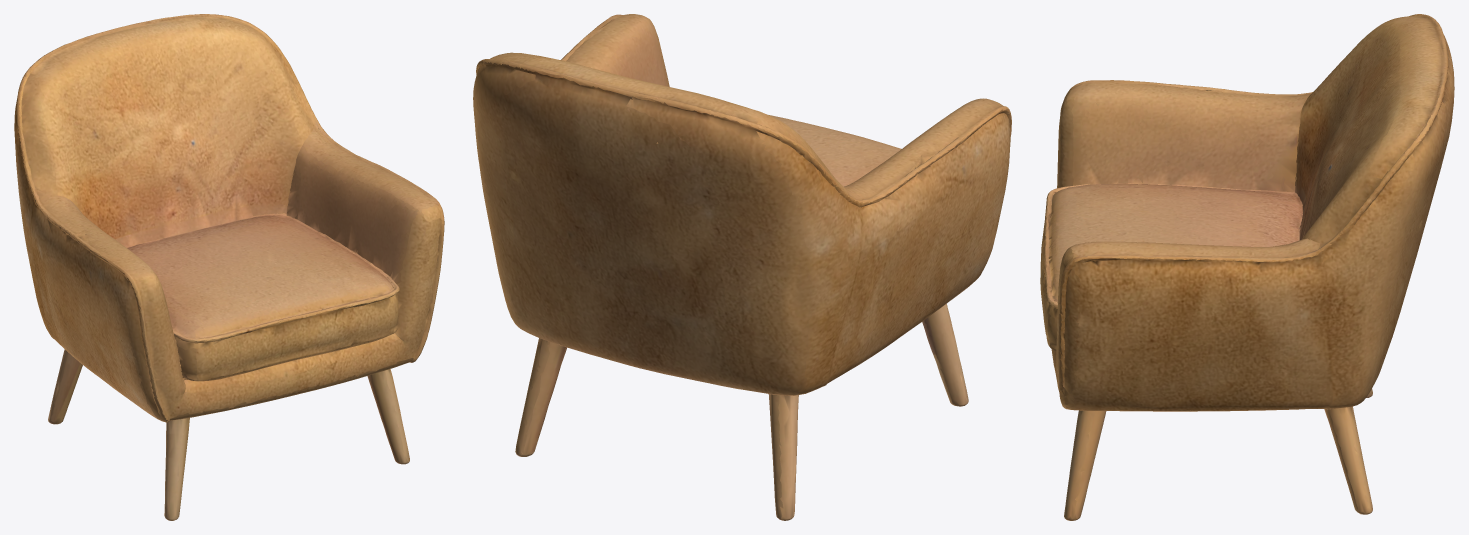
Rendered from chair-leather.glb.
3 renders of one model, left to right at view 1: azimuth 30°, elevation 25°; view 2: azimuth 150°, elevation 25°; view 3: azimuth 270°, elevation 25°, orthographic. The views are drawn at different scales.
Visible parts, largest first — view 1: geometry_0; view 2: geometry_0; view 3: geometry_0.
Boxes of the visible parts, x1,y1,x2,y2 form: geometry_0: (14,14,444,520); geometry_0: (473,14,1011,520); geometry_0: (1040,14,1454,520).
Bounding box in the file's own units: 0.7965 × 0.8198 × 0.7812.
1 material, 1 textured.
